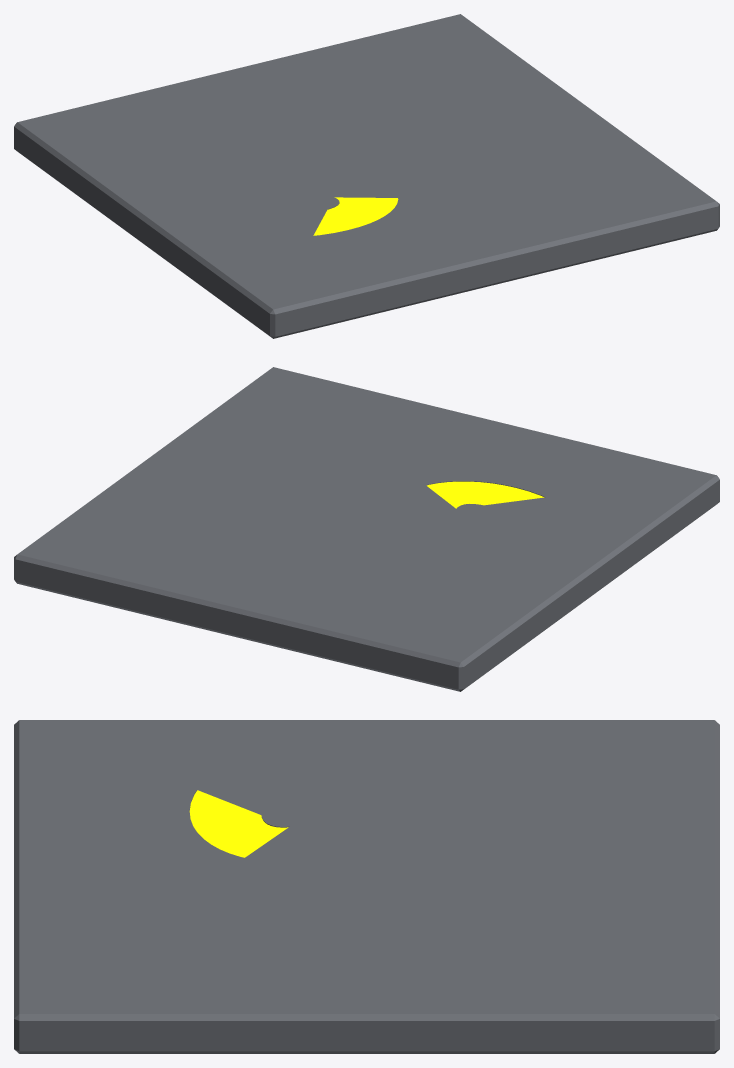
Rendered from SlotS3.fbx.
The picture shows the model from 3 angles, top to bottom: view 1: azimuth 30°, elevation 25°; view 2: azimuth 150°, elevation 25°; view 3: azimuth 270°, elevation 25°; orthographic projection. The views are drawn at different scales.
Visible parts, largest first — view 1: Plinth; view 2: Plinth; view 3: Plinth.
Boxes of the visible parts, x1,y1,x2,y2 form: Plinth: [14, 14, 719, 338]; Plinth: [14, 367, 719, 691]; Plinth: [14, 720, 719, 1053].
Size of the model in its own units: 4 by 0.25 by 4.
